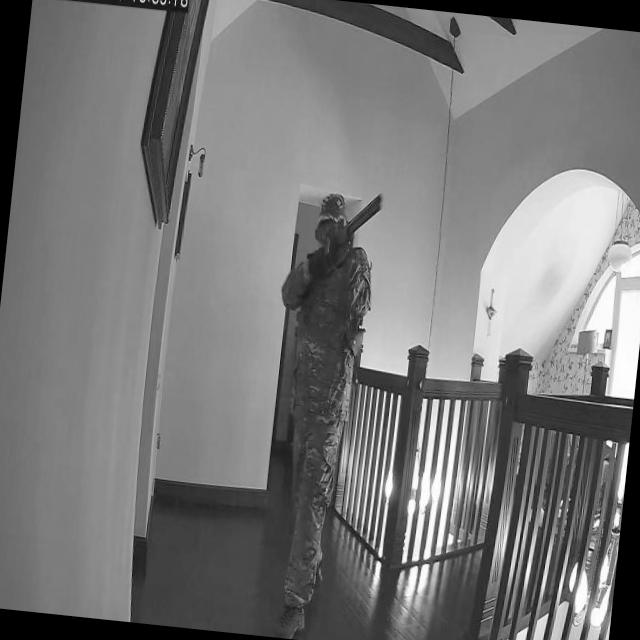gun: (310, 190, 386, 272)
person with a gun: (260, 185, 381, 640)
